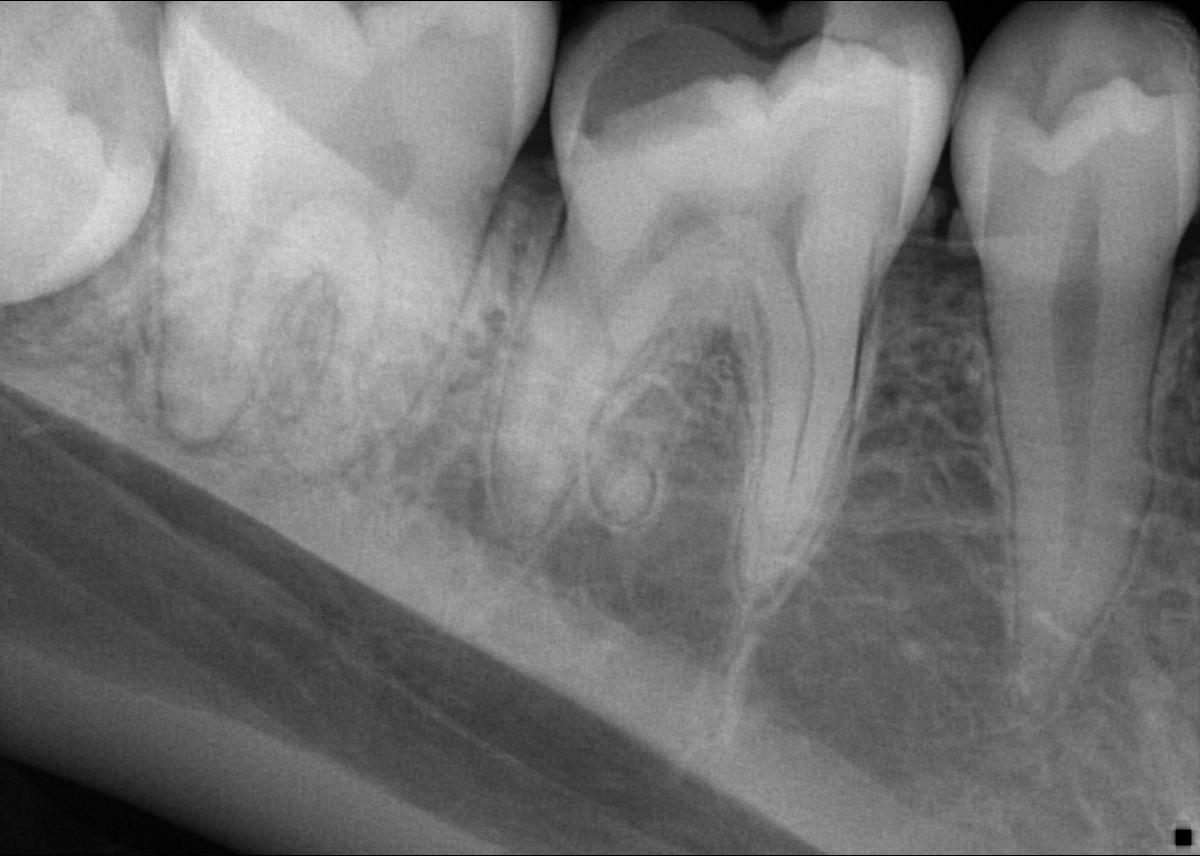Furcation Involvement: (151, 319, 249, 457)
